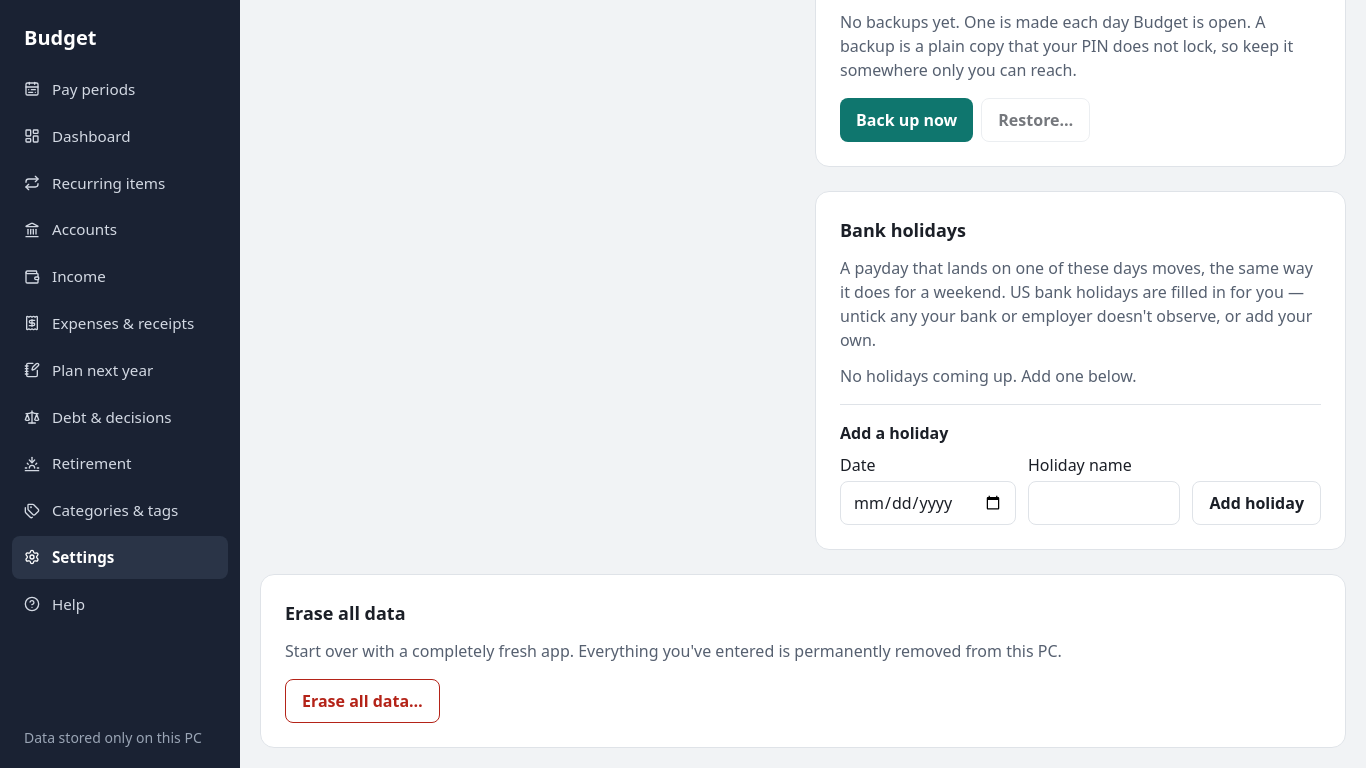
Test: erase all data › asks first, and sends nothing until the person confirms
(page scrolled)
Click the button "Erase all data…".
click(362, 701)  # box [285,679,440,723]
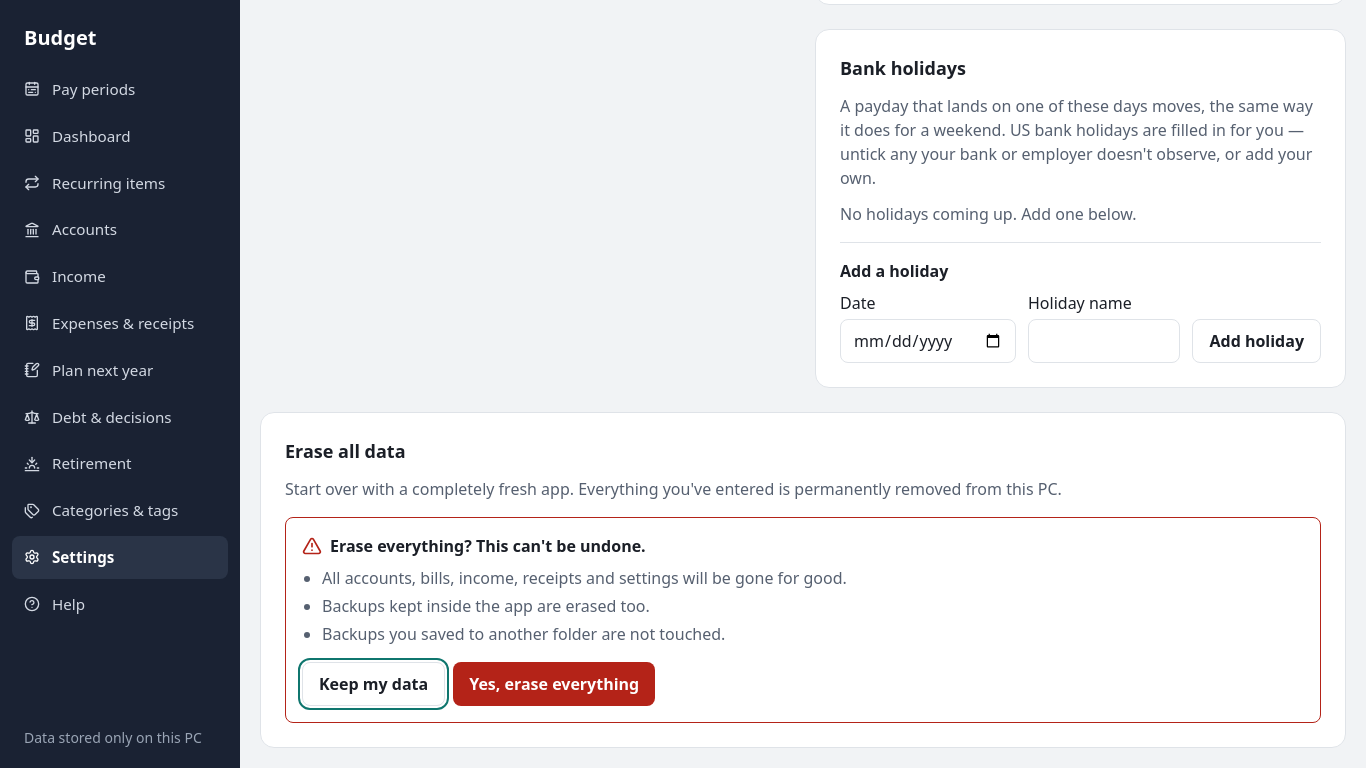
Expected: the dialog shows "This can't be undone", [330,535,646,557]
